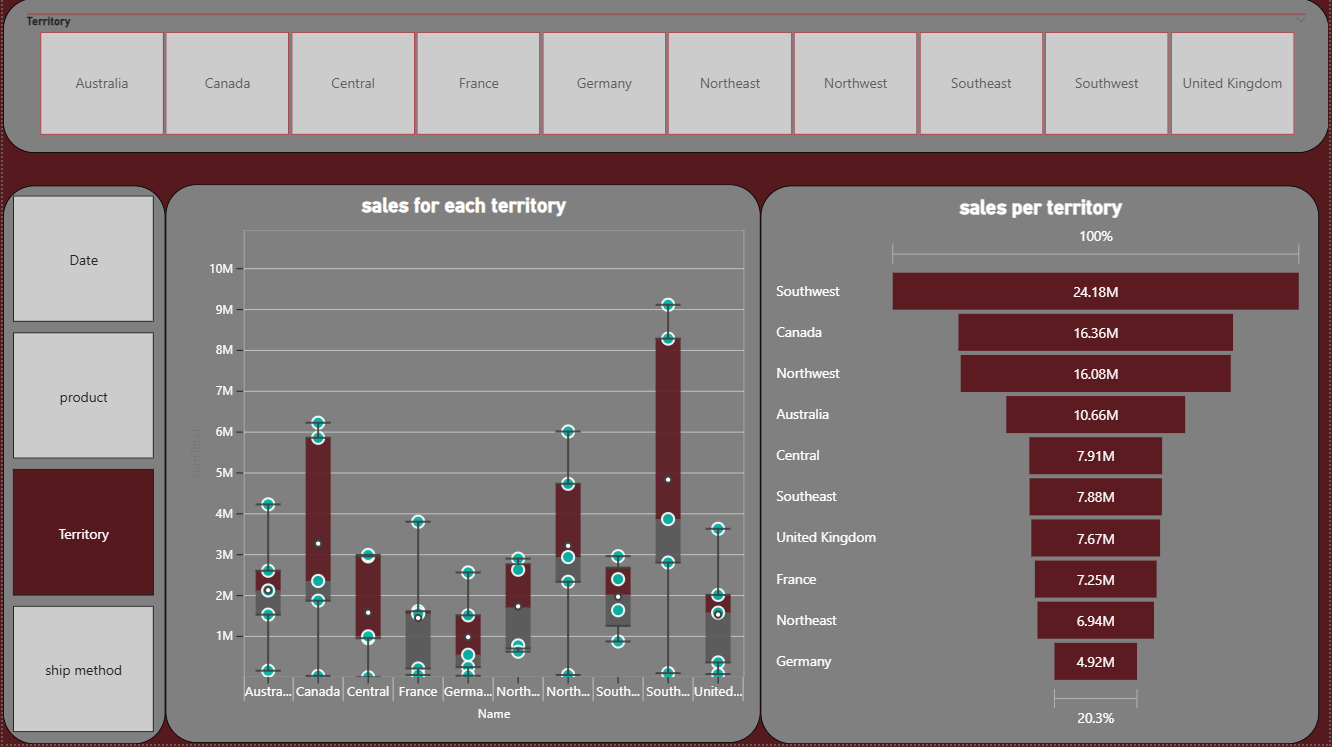

The page's visual inventory and layout, read from the dashboard file:
{"tool":"powerbi","page":{"name":"Territory","canvas":[1280,720],"ordinal":2},"visuals":[{"type":"columnChart","fields":{"Y":["measuresTable.SubTotal"],"Category":["vw_DimTerritories.Territory"]},"box":[199.3,175.8,1054.6,543.6],"z":0},{"type":"actionButton","title":"pie chart","box":[951.3,219.3,233.8,126.8],"z":3000},{"type":"card","fields":{"Values":["measuresTable.No.Orders"]},"box":[0,0,248.9,156.4],"z":4000},{"type":"card","fields":{"Values":["measuresTable.SubTotal"]},"box":[248.9,0,243.2,156.4],"z":5000},{"type":"card","fields":{"Values":["measuresTable.TotalFraight"]},"box":[492.1,0,280.2,156.4],"z":6000},{"type":"card","fields":{"Values":["measuresTable.TotlaTax"]},"box":[772.3,0,258.8,156.4],"z":7000},{"type":"card","fields":{"Values":["measuresTable.TotalQty"]},"box":[1031.1,0,248.9,156.4],"z":8000},{"type":"actionButton","box":[18.1,260.9,154,99.7],"z":9000},{"type":"actionButton","box":[18.1,447.6,154,105.1],"z":10000}]}

Visuals, with their boxes in screenshot pixels (x1, y1, x2, y2), scaled from the page's 1280x720 canvas onto the 1332x747 screenshot:
columnChart - measuresTable.SubTotal x vw_DimTerritories.Territory: [x1=207, y1=182, x2=1305, y2=746]
"pie chart" actionButton: [x1=990, y1=228, x2=1233, y2=359]
card - measuresTable.No.Orders: [x1=0, y1=0, x2=259, y2=162]
card - measuresTable.SubTotal: [x1=259, y1=0, x2=512, y2=162]
card - measuresTable.TotalFraight: [x1=512, y1=0, x2=804, y2=162]
card - measuresTable.TotlaTax: [x1=804, y1=0, x2=1073, y2=162]
card - measuresTable.TotalQty: [x1=1073, y1=0, x2=1331, y2=162]
actionButton: [x1=19, y1=271, x2=179, y2=374]
actionButton: [x1=19, y1=464, x2=179, y2=573]
